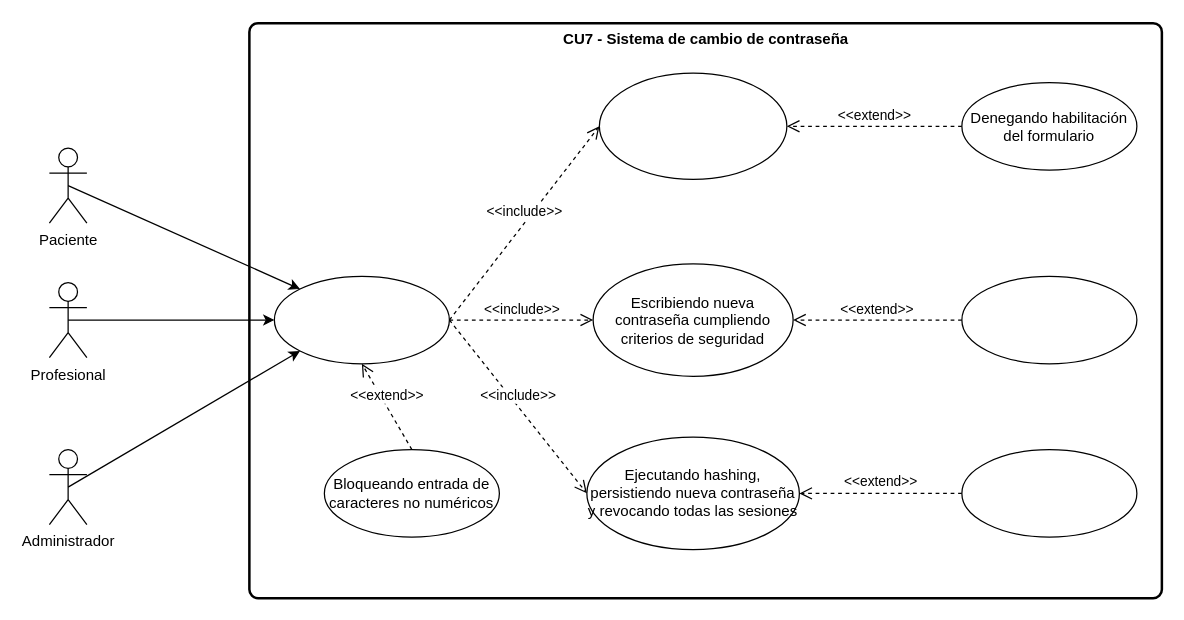
The diagram is 1184 pixels wide and 620 high, and some of its shapes have lost their labels. The centre of each missing label's shape, as x and y in pixels:
Comprobando integridad y vigencia del código OTP: the point at 692,125
Ingresando código OTP para verificar identidad: the point at 361,319
Notificando fallo de persistencia: the point at 1049,492
Resaltando requisitos incumplidos: the point at 1049,319
